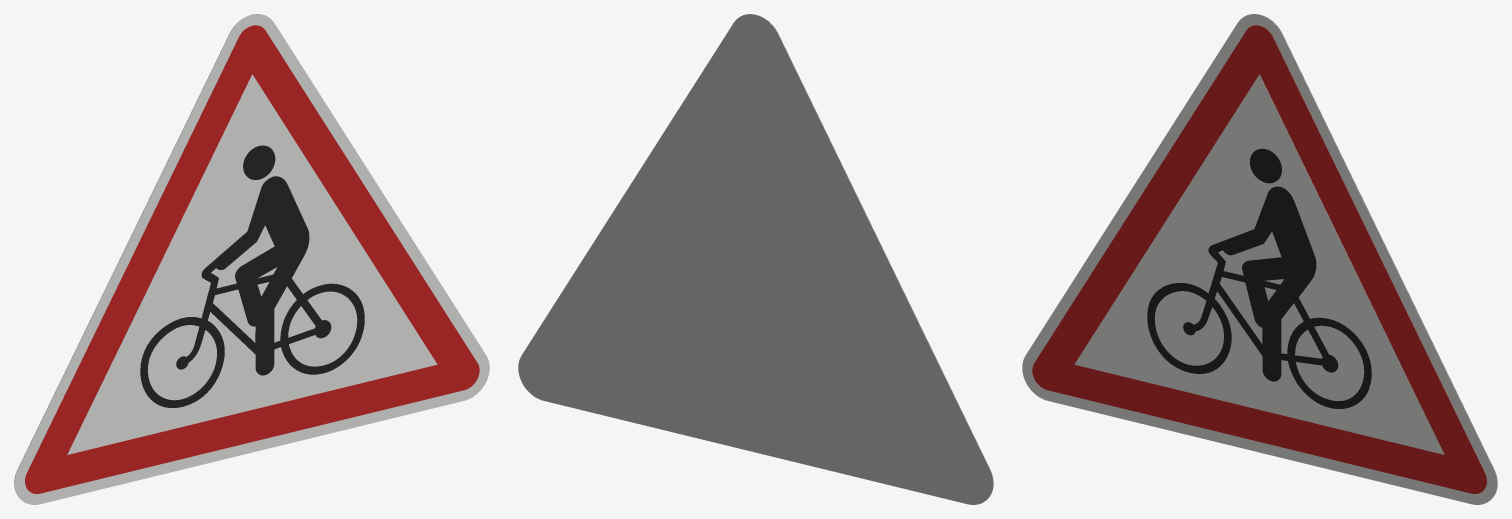
3 renders of one model, left to right at view 1: azimuth 30°, elevation 25°; view 2: azimuth 150°, elevation 25°; view 3: azimuth 330°, elevation 25°, orthographic.
Parts seen in each view (by area): view 1: A21_p02, A21_p01, A21_p00, A21_p03, A21_p04, A21_dos; view 2: A21_dos, A21_p00; view 3: A21_p02, A21_p01, A21_p00, A21_p03, A21_p04, A21_dos.
Boxes of the visible parts, x1,y1,x2,y2 form: A21_p02: (67,74,437,454); A21_p01: (25,25,479,493); A21_p00: (14,14,489,504); A21_p03: (140,176,364,407); A21_p04: (243,145,275,179); A21_dos: (14,14,265,500); A21_dos: (518,14,993,504); A21_p00: (742,14,993,500); A21_p02: (1074,74,1444,454); A21_p01: (1032,25,1486,493); A21_p00: (1022,14,1497,504); A21_p03: (1147,186,1371,408); A21_p04: (1250,148,1281,183); A21_dos: (1246,14,1497,500).
Bounding box in the file's own units: 1 × 0.8803 × 0.0035.
